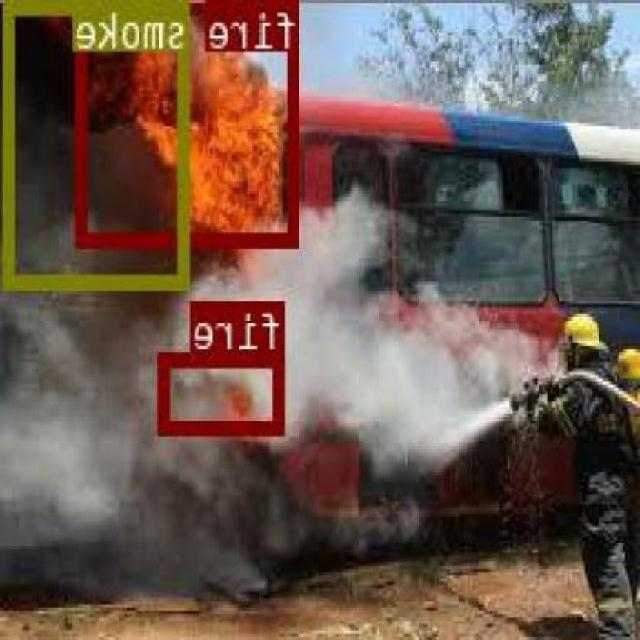Fire: (81, 1, 302, 242), (160, 353, 288, 435)
Smoke: (6, 0, 191, 288)
